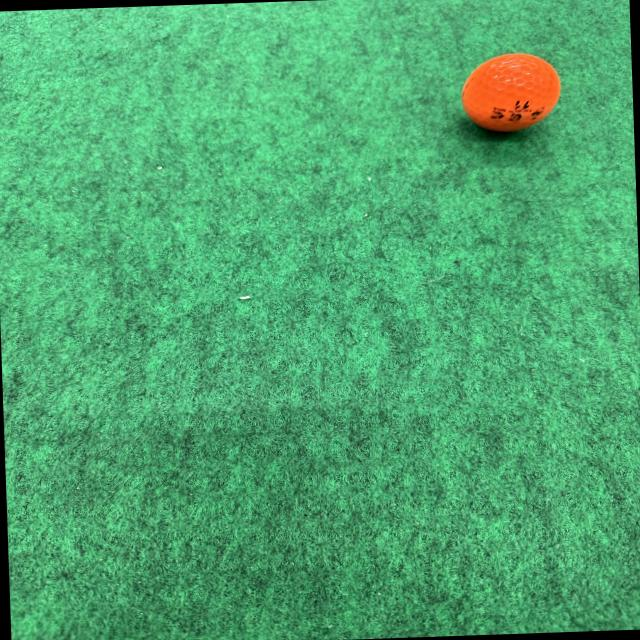ball: (456, 49, 564, 136)
